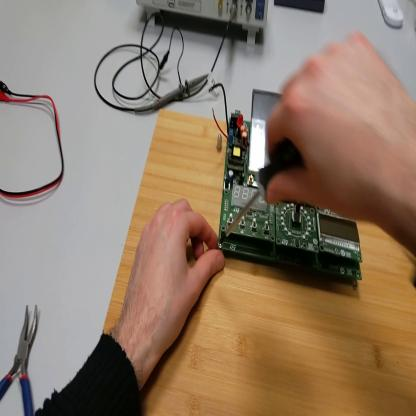hand: (266, 37, 415, 228), (121, 198, 224, 356)
low voltage board: (210, 86, 363, 282)
oscilloscope: (138, 1, 269, 45)
oscilloscope probe tip: (136, 68, 210, 117)
pliers: (2, 308, 41, 414)
screwdriver-: (221, 148, 305, 246)
working area: (104, 113, 416, 416)
